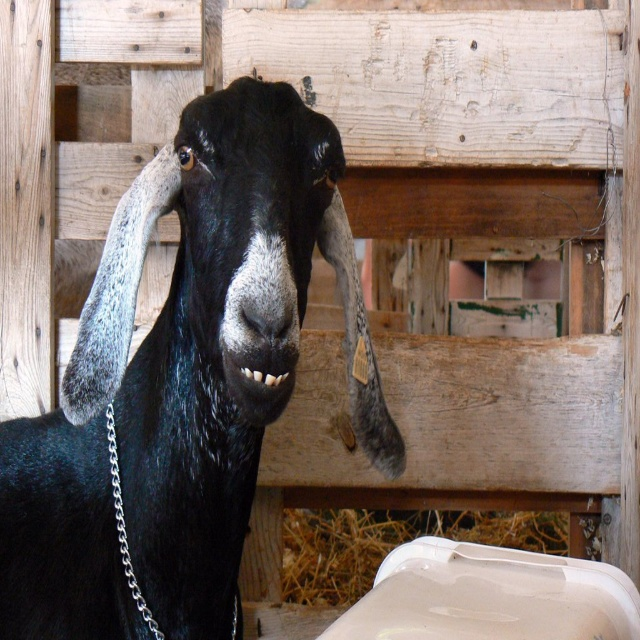Goat: (0, 76, 407, 639)
